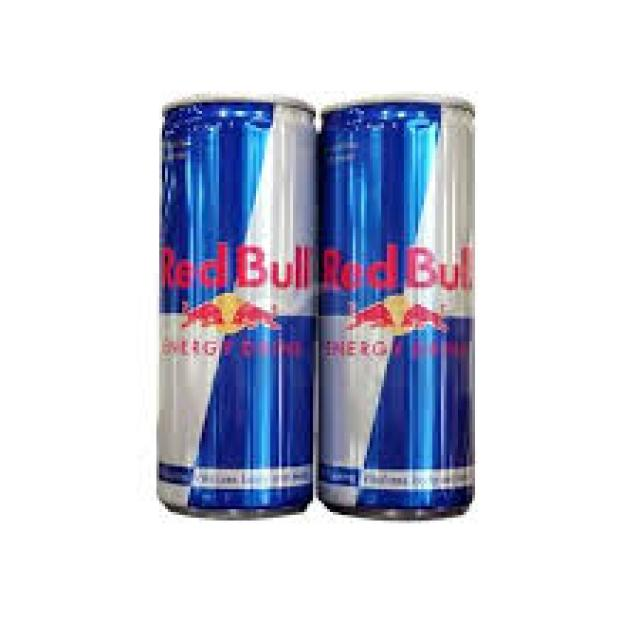red-bull: (156, 95, 322, 516), (319, 96, 479, 521)
